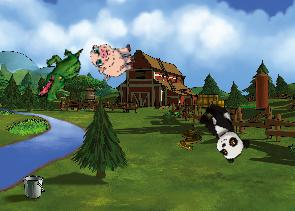crocodile: (35, 40, 85, 107)
panda: (192, 98, 253, 165)
pig: (88, 36, 137, 82)
